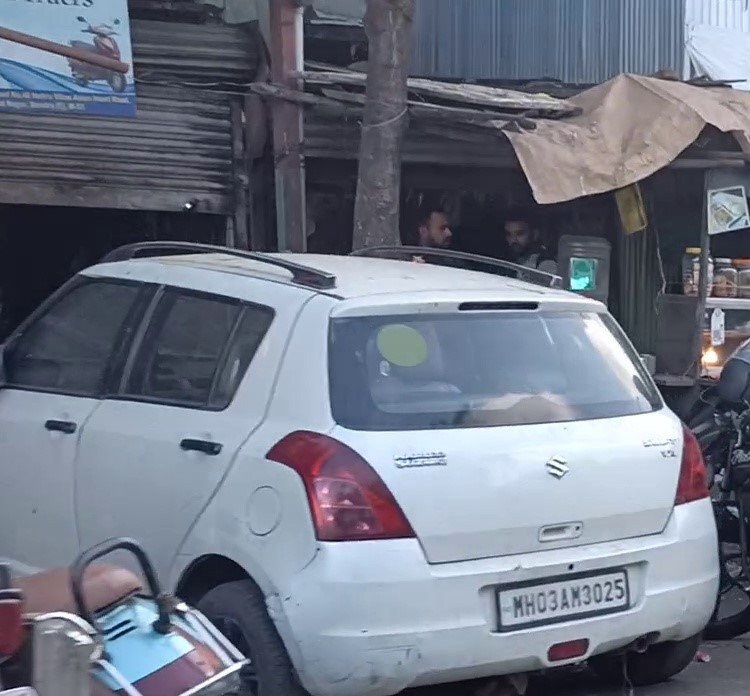MH03AM3025: (497, 572, 628, 625)
